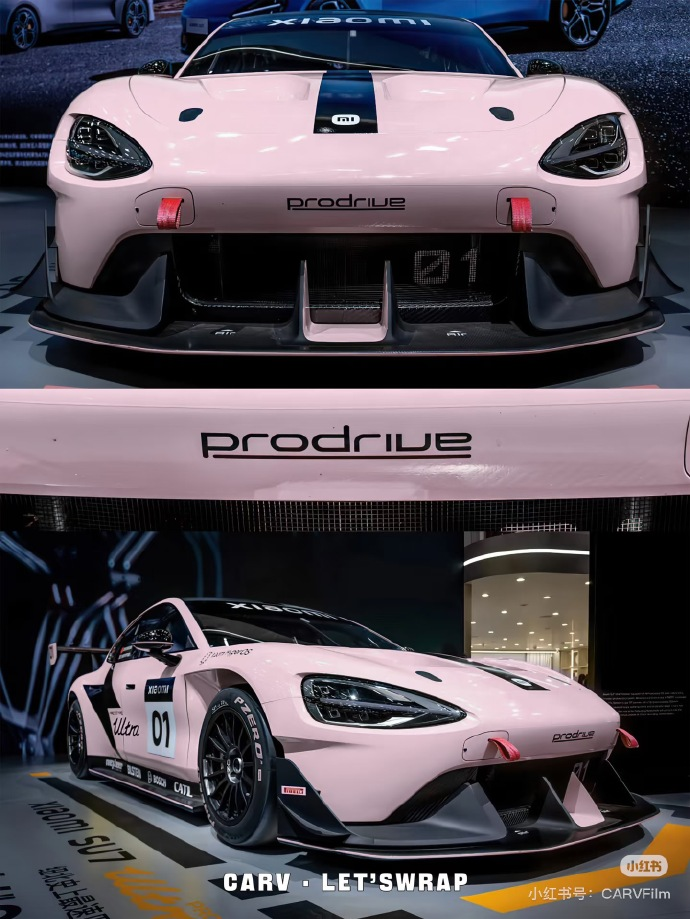su7: (30, 6, 661, 359), (49, 599, 650, 868)
